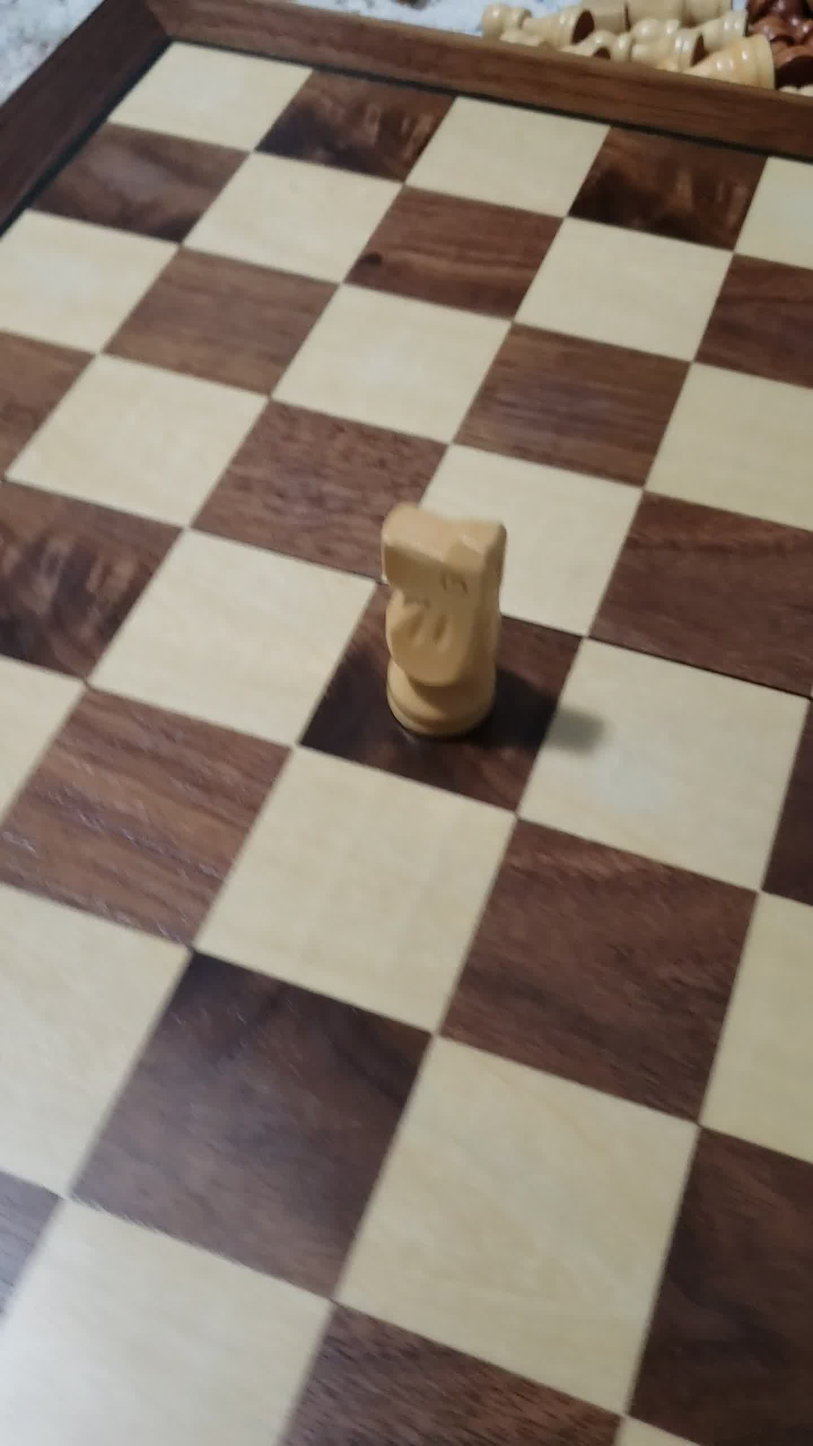white-knight: (344, 478, 548, 777)
